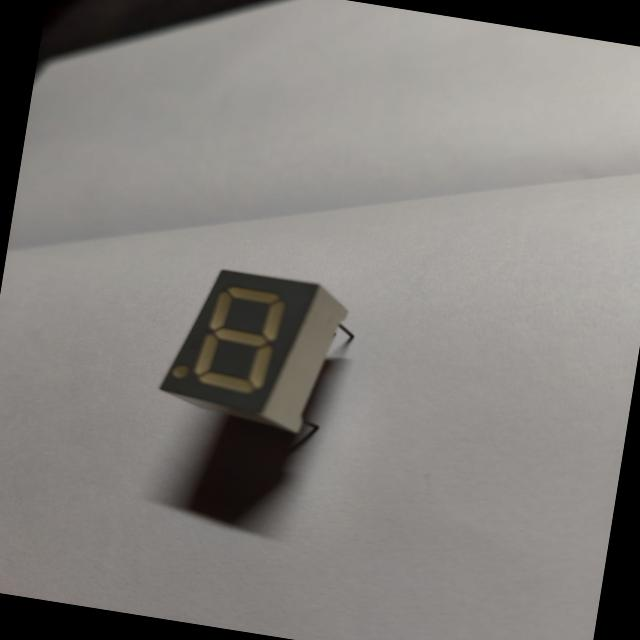sevensegment: (138, 246, 384, 461)
